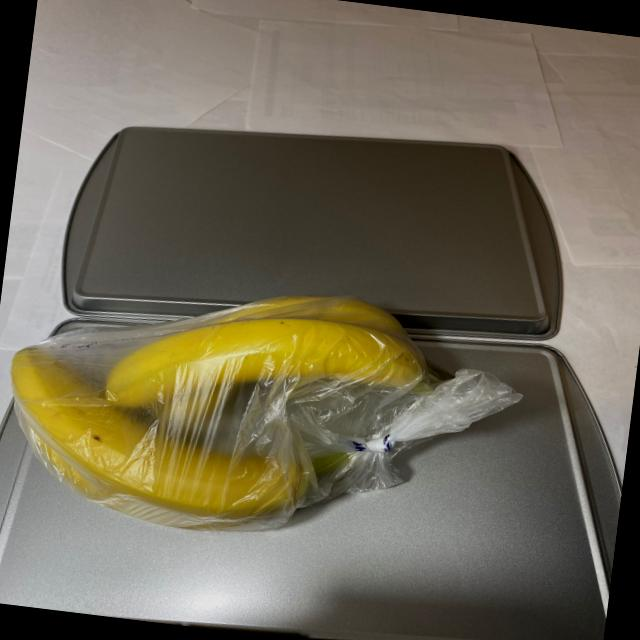banana: (0, 253, 473, 566)
